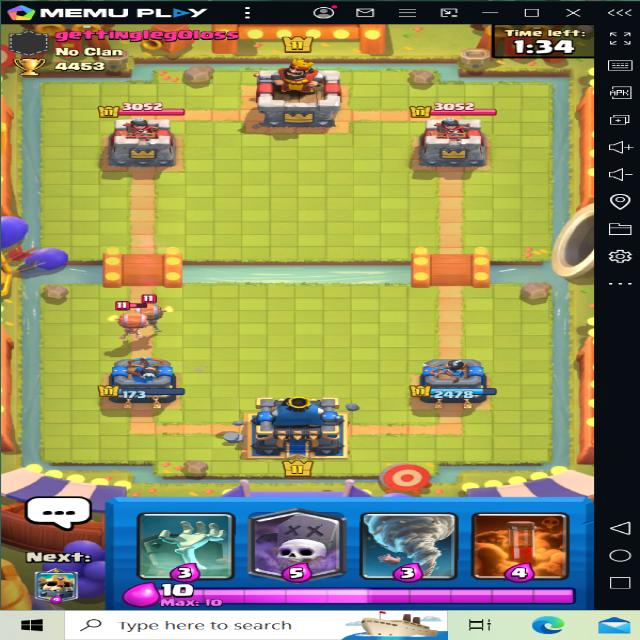wall-breaker: (137, 293, 180, 335), (110, 297, 145, 337)
